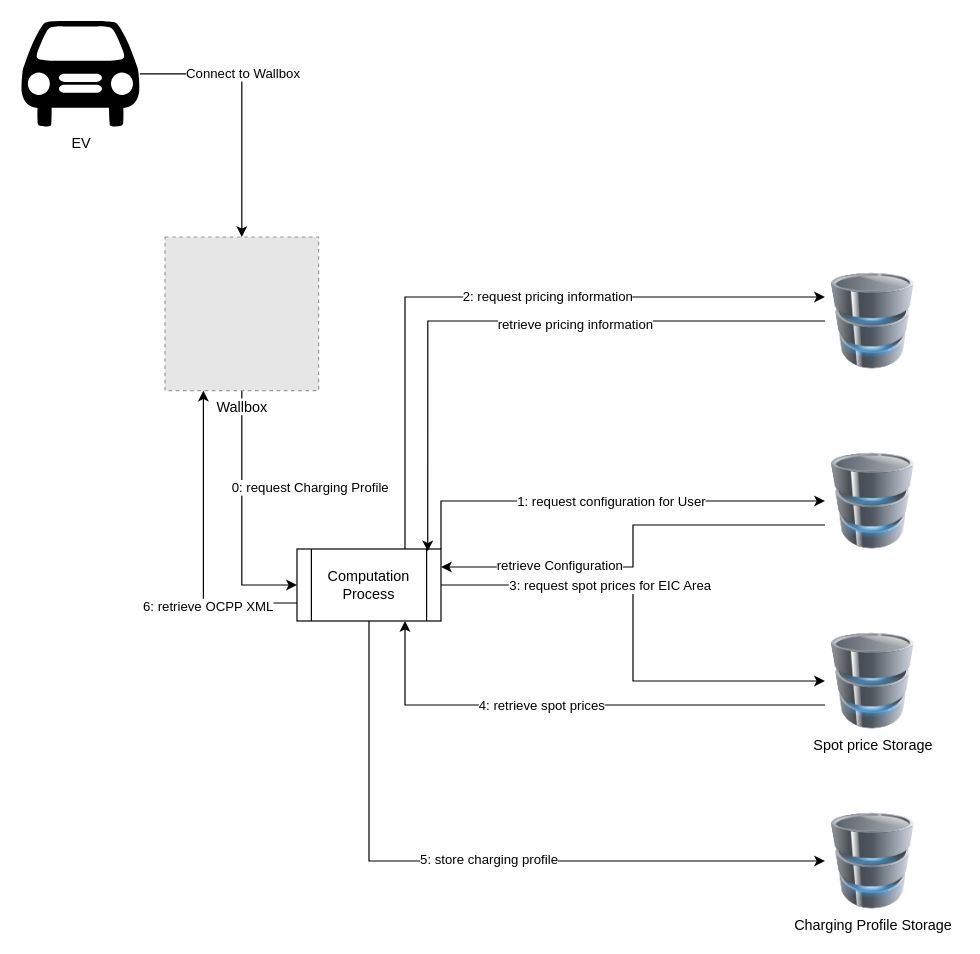
Some shapes in this 980 by 954 pixel diagram are drawn without their labels. Grey dashed boxes stand in for pictures. Here are the shapes that lost their labels. From the top down, the box of each, then its label:
(824, 272, 920, 368): Pricing Information Storage
(824, 452, 920, 548): Configuration Storage
